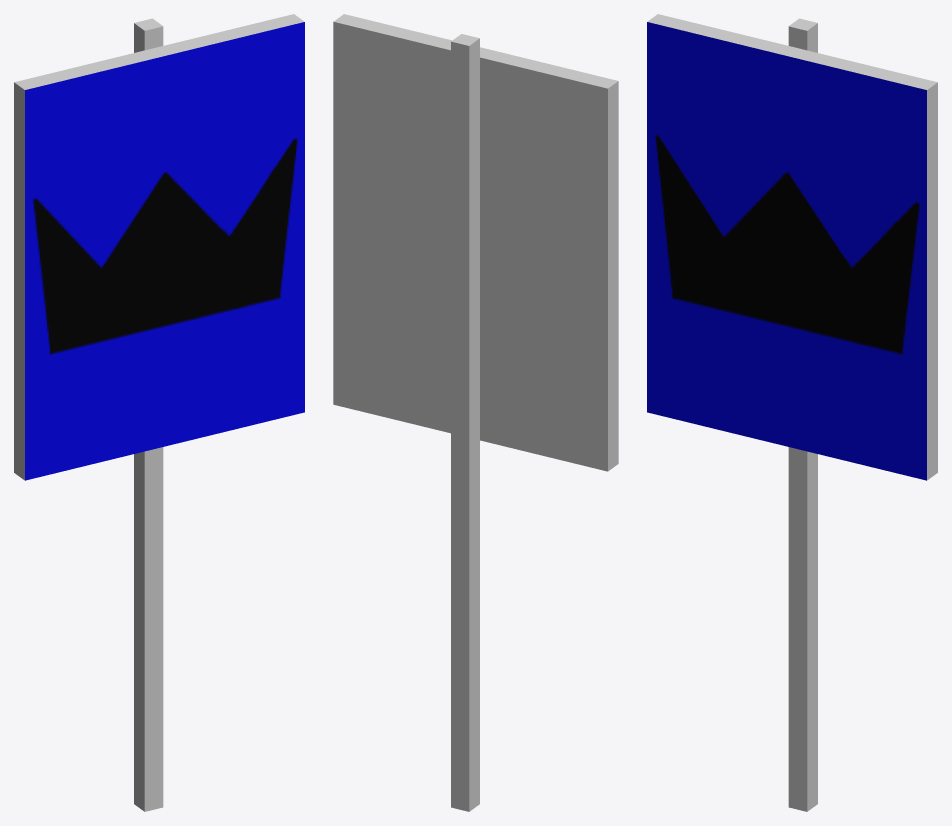
Rendered from blue_leader_sign.fbx.
3 views of the same model, side by side, from view 1: azimuth 30°, elevation 25°; view 2: azimuth 150°, elevation 25°; view 3: azimuth 330°, elevation 25° (orthographic).
Parts seen in each view (by area): view 1: LeaderSign; view 2: LeaderSign; view 3: LeaderSign.
Boxes of the visible parts, x1,y1,x2,y2 form: LeaderSign: [14, 14, 304, 811]; LeaderSign: [333, 14, 618, 811]; LeaderSign: [647, 14, 937, 811].
Size of the model in its own units: 150 by 400 by 20.
